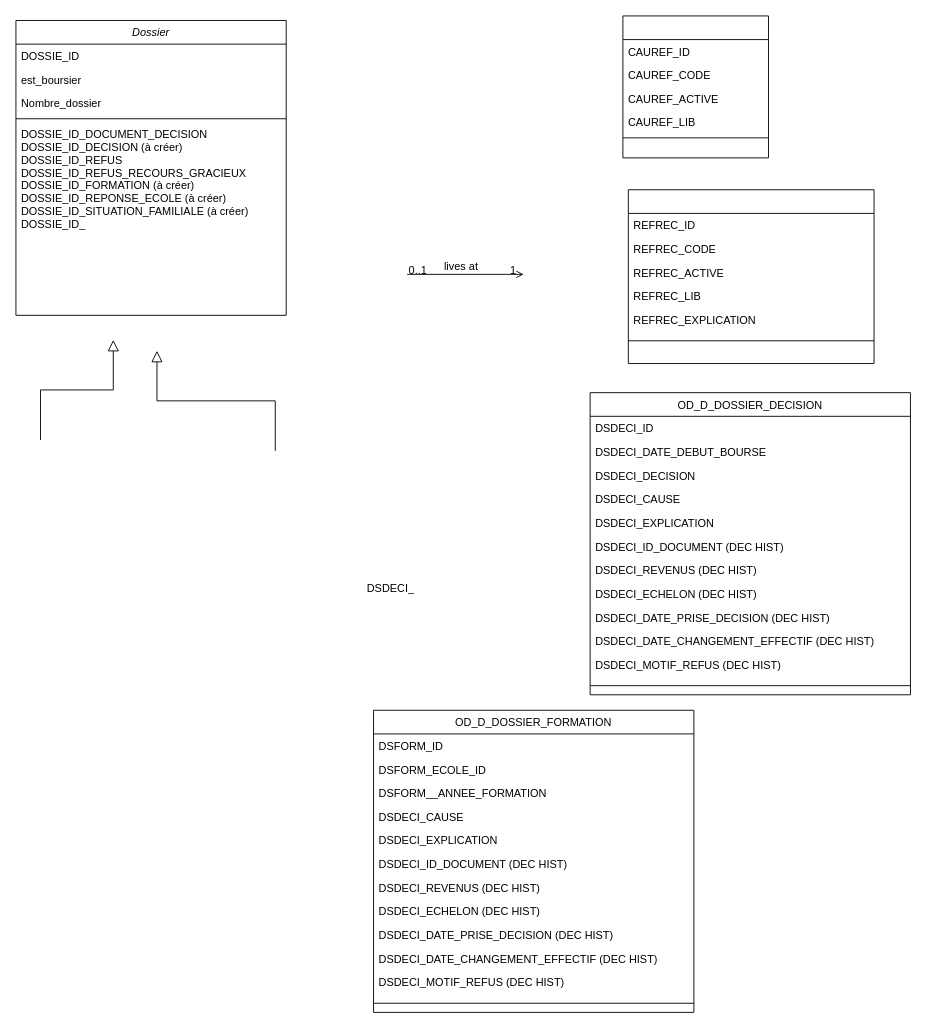
Some shapes in this 926 by 1028 pixel diagram are drawn without their labels. The shapes that lost their labels are listed below. From the top down, each one's box as (x1, y1, x2, y2) in pixels, then its label:
(622, 15, 768, 158): OD_D_CAUSE_REFUS
(627, 189, 874, 364): OD_D_CAUSE_REFUS_RECOURS_GRACIEUX
